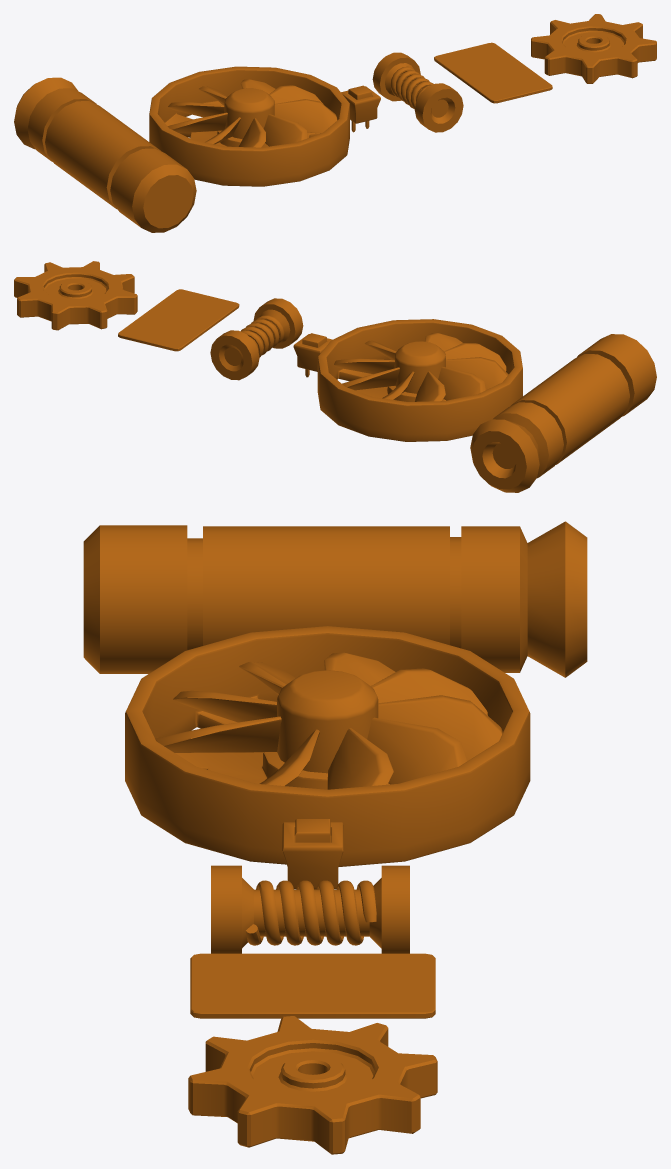
The model's file is ScrapText.fbx.
The picture shows the model from 3 angles, top to bottom: view 1: azimuth 30°, elevation 25°; view 2: azimuth 150°, elevation 25°; view 3: azimuth 270°, elevation 25°; orthographic projection. The views are drawn at different scales.
Visible parts, largest first — view 1: Fan.014, Battery.014, Cogwheel.015, PCB.014, Coil.015, Button.014; view 2: Fan.014, Battery.014, Cogwheel.015, PCB.014, Coil.015, Button.014; view 3: Fan.014, Battery.014, Cogwheel.015, PCB.014, Coil.015, Button.014.
Part boxes in pixels (x1,y1,x2,y2): Fan.014: (149, 66, 349, 186); Battery.014: (14, 77, 196, 232); Cogwheel.015: (531, 14, 656, 83); PCB.014: (434, 42, 552, 103); Coil.015: (372, 52, 463, 132); Button.014: (341, 85, 380, 132); Fan.014: (317, 319, 522, 441); Battery.014: (470, 334, 656, 492); Cogwheel.015: (14, 261, 137, 330); PCB.014: (118, 289, 239, 351); Coil.015: (210, 298, 303, 380); Button.014: (293, 333, 332, 377); Fan.014: (125, 626, 530, 866); Battery.014: (83, 521, 587, 677); Cogwheel.015: (188, 1016, 437, 1154); PCB.014: (190, 953, 435, 1018); Coil.015: (211, 865, 409, 953); Button.014: (282, 819, 343, 889).
Size of the model in its own units: 111 by 13.21 by 42.46.
